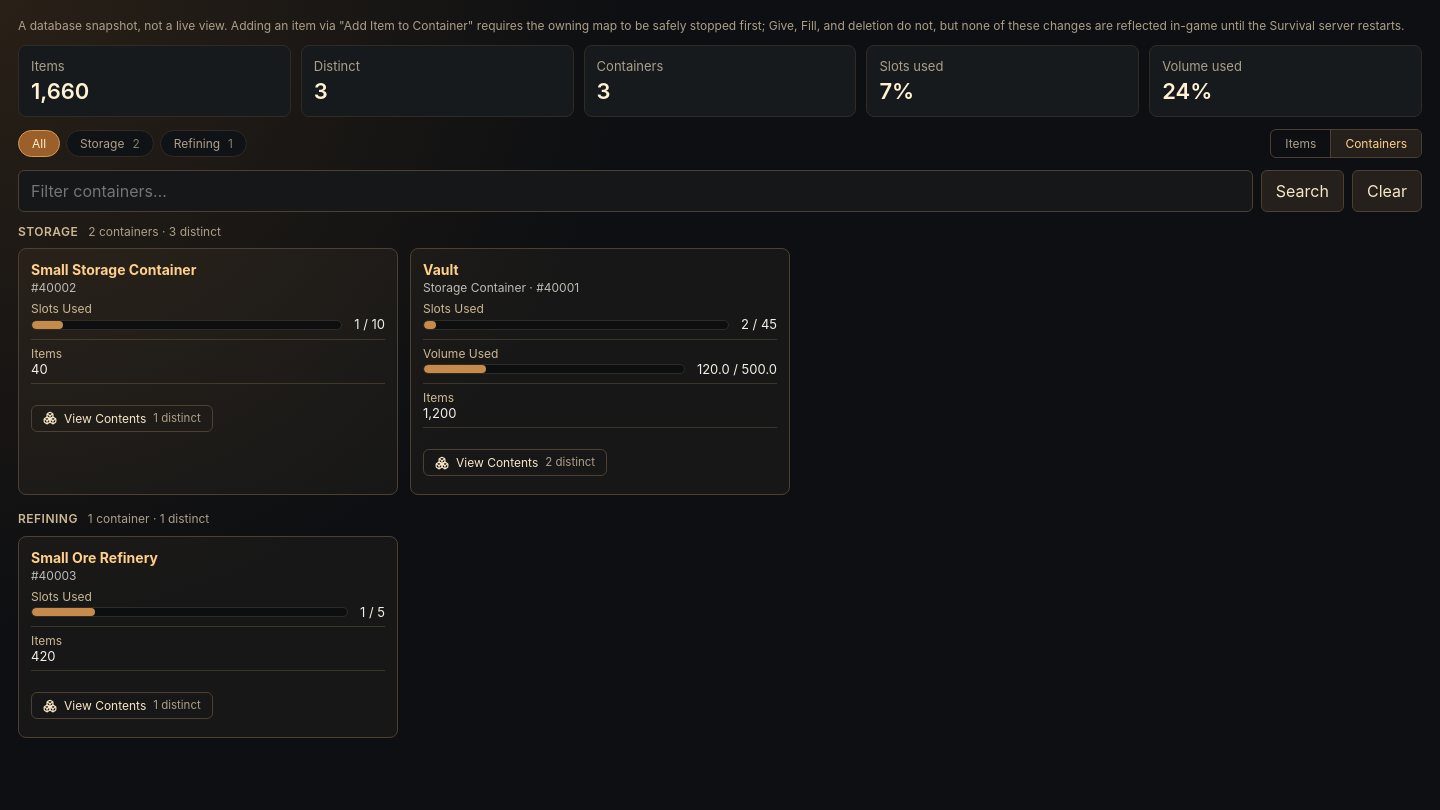
Test: BaseInventoryTab › reports a filter that matches nothing
This screenshot has width=1440, height=810.
Expected: the text "Distinct" is shown, left=314, top=58, right=360, bottom=74
Click the button "Items" at (1301, 144), box left=1271, top=130, right=1330, bottom=157
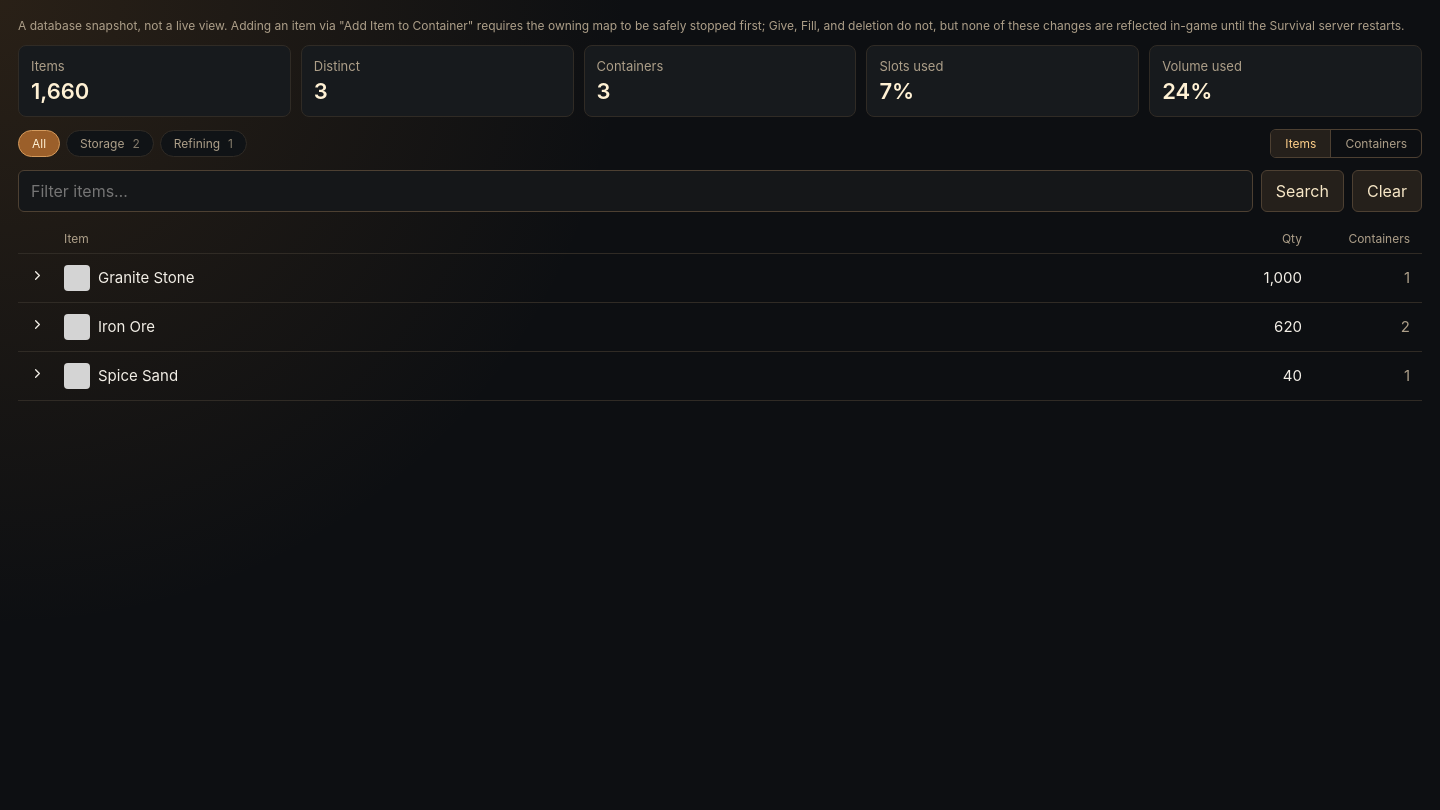
Type "sandworm" into the field named "Filter base inventory" at (635, 191), box left=18, top=170, right=1253, bottom=212
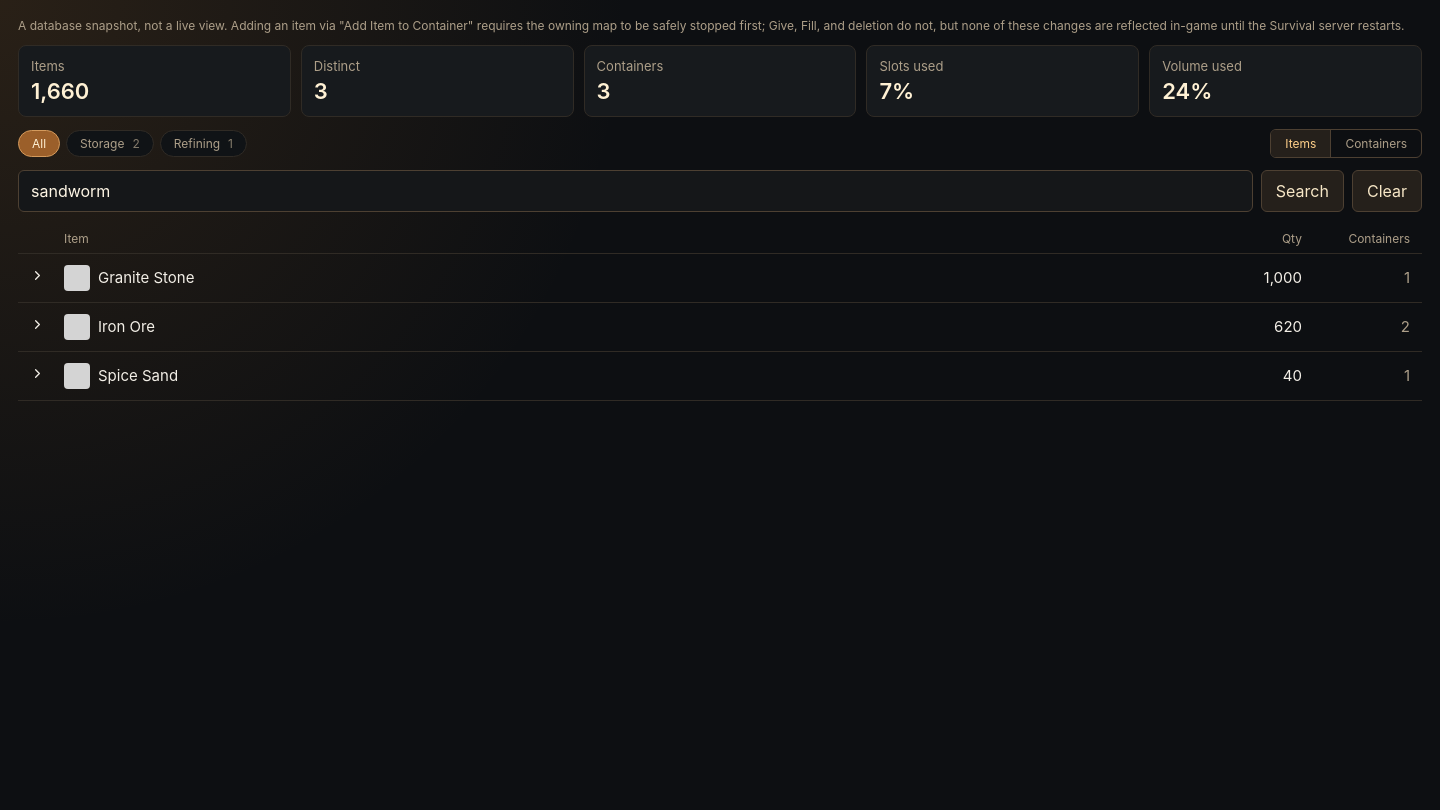
Click the button "Search" at (1302, 191), box left=1261, top=170, right=1344, bottom=212
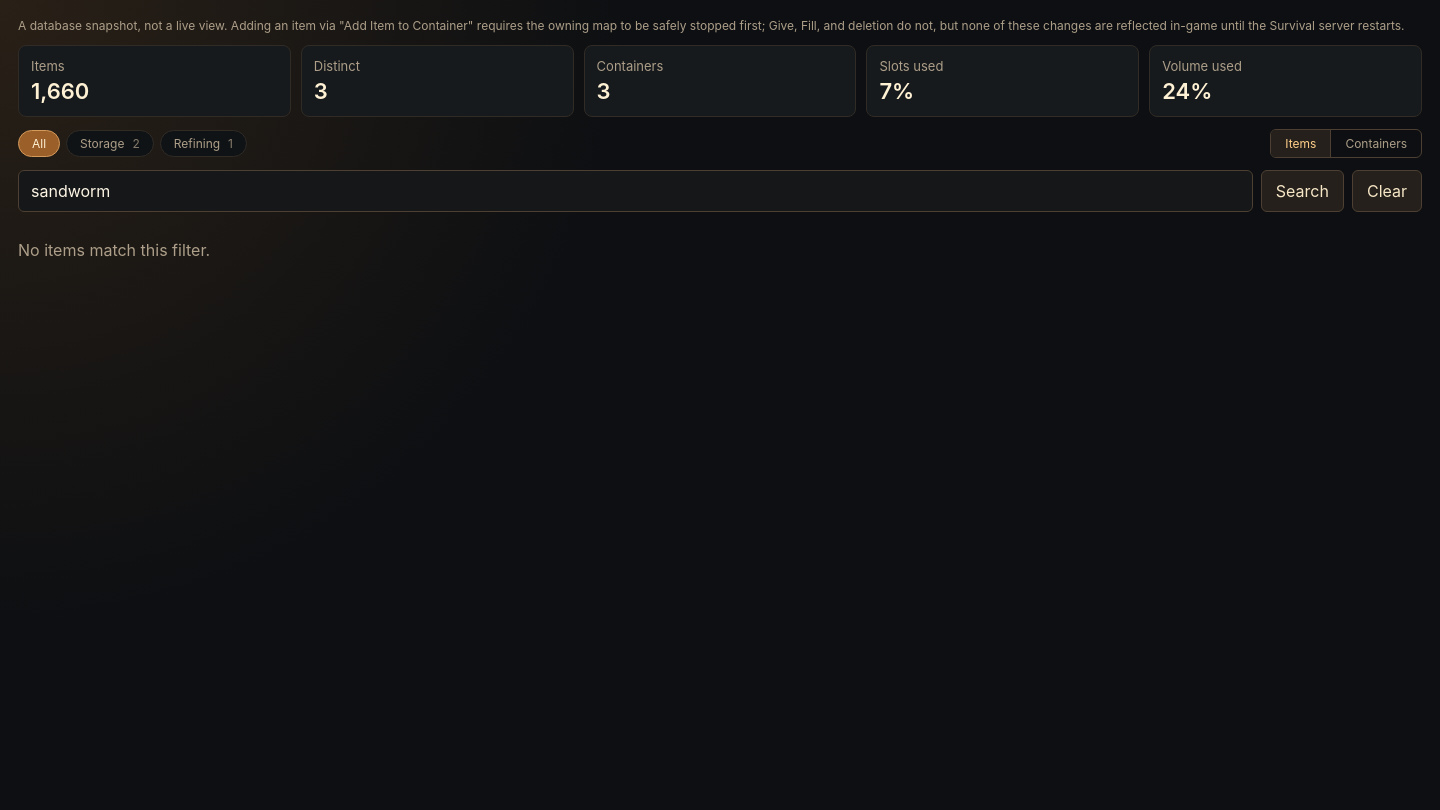
Expected: the text "No items match this filter." is shown, left=18, top=240, right=210, bottom=260
